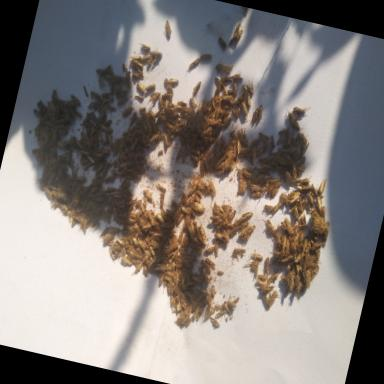pbw: (318, 220, 332, 246), (272, 152, 293, 168), (100, 243, 118, 261), (219, 300, 236, 319), (182, 203, 201, 220), (164, 238, 180, 258), (130, 258, 144, 280), (292, 103, 311, 119), (240, 224, 255, 244), (186, 220, 200, 241), (214, 62, 234, 76), (278, 220, 294, 237), (140, 190, 157, 206), (195, 178, 212, 194), (163, 210, 178, 228), (161, 20, 175, 39), (72, 184, 84, 206), (216, 136, 229, 156), (99, 233, 115, 249), (190, 200, 208, 214), (137, 195, 150, 214), (277, 144, 297, 156), (196, 159, 208, 179), (109, 244, 124, 260), (263, 219, 277, 236), (282, 171, 296, 188), (260, 292, 273, 310), (282, 236, 294, 255), (210, 201, 224, 217), (186, 56, 200, 72), (136, 236, 150, 252), (262, 256, 273, 276), (288, 234, 298, 256), (170, 204, 182, 222), (156, 220, 174, 232), (46, 108, 64, 120), (302, 270, 314, 288), (284, 132, 296, 150), (290, 136, 302, 154), (124, 250, 142, 262), (290, 162, 302, 180), (236, 128, 248, 146), (270, 181, 282, 199), (298, 141, 310, 159), (134, 211, 146, 229), (50, 116, 64, 131), (80, 158, 95, 172), (248, 136, 262, 151), (294, 280, 305, 299), (238, 176, 249, 195), (291, 204, 302, 223), (238, 102, 251, 118), (42, 185, 55, 201), (86, 215, 99, 231), (200, 258, 213, 274), (314, 196, 326, 213), (298, 198, 309, 216), (232, 30, 243, 48), (255, 104, 264, 126), (296, 216, 310, 230), (310, 240, 324, 254), (294, 130, 308, 144), (56, 202, 70, 216), (178, 204, 192, 218), (304, 193, 317, 208), (294, 175, 310, 187), (204, 240, 216, 256), (48, 126, 60, 142), (267, 271, 279, 287), (256, 132, 272, 144), (212, 79, 222, 98), (63, 112, 76, 126), (227, 226, 240, 240), (238, 146, 252, 159), (270, 231, 284, 244), (48, 155, 62, 168), (137, 219, 151, 232), (79, 132, 92, 146), (220, 92, 234, 105), (231, 216, 244, 230), (294, 244, 304, 262), (250, 108, 260, 126), (226, 33, 238, 48), (99, 119, 111, 134), (239, 224, 251, 239), (280, 254, 295, 266), (316, 178, 326, 196), (140, 262, 150, 280), (268, 290, 278, 308), (189, 134, 199, 152), (275, 132, 287, 147), (80, 140, 95, 152), (36, 100, 48, 115), (167, 299, 178, 315), (41, 174, 52, 190), (203, 308, 214, 324), (264, 142, 275, 158), (220, 230, 231, 246), (191, 305, 200, 324), (176, 112, 193, 122), (286, 275, 296, 292), (82, 199, 92, 216), (57, 149, 70, 162), (46, 101, 59, 114), (244, 82, 256, 96), (118, 188, 130, 202), (38, 114, 52, 126), (150, 52, 162, 66), (278, 193, 290, 207), (196, 290, 208, 304), (294, 154, 306, 168), (292, 260, 304, 274), (56, 98, 68, 112), (184, 252, 198, 264), (94, 132, 106, 146), (204, 258, 218, 270), (144, 208, 158, 220), (271, 200, 282, 215), (319, 205, 328, 223), (232, 22, 241, 40), (300, 238, 310, 254), (211, 242, 221, 258), (249, 146, 259, 162), (69, 165, 79, 181), (198, 52, 214, 62), (106, 79, 116, 95), (210, 142, 220, 158), (234, 140, 244, 156), (98, 226, 108, 242), (168, 288, 176, 308), (148, 131, 160, 144), (74, 174, 87, 186), (68, 94, 81, 106), (222, 112, 234, 125), (272, 249, 285, 261), (148, 91, 160, 104), (199, 272, 212, 284), (289, 190, 302, 202), (161, 134, 172, 148), (90, 221, 101, 235), (54, 141, 68, 152), (207, 284, 218, 298), (272, 163, 286, 174), (120, 76, 131, 90), (272, 257, 286, 268), (201, 156, 212, 170), (306, 252, 315, 269), (75, 201, 85, 216), (166, 115, 181, 125), (96, 75, 106, 90), (240, 7, 250, 22), (296, 232, 306, 247), (227, 209, 237, 224), (230, 82, 240, 97), (184, 315, 194, 330), (124, 254, 139, 264), (34, 154, 46, 166), (134, 82, 146, 94), (64, 209, 73, 225), (196, 306, 205, 322), (162, 90, 174, 102), (235, 91, 244, 107), (154, 254, 166, 266), (93, 196, 105, 208), (84, 154, 96, 166), (183, 106, 195, 118), (124, 186, 136, 198), (222, 204, 230, 222), (180, 148, 188, 166), (216, 37, 228, 49), (56, 164, 64, 182), (213, 76, 225, 88), (70, 108, 83, 119), (213, 121, 224, 134), (154, 183, 167, 194), (221, 220, 234, 231), (107, 226, 121, 236), (100, 124, 114, 134), (220, 74, 234, 84), (186, 194, 196, 208), (96, 109, 106, 123), (82, 194, 96, 204), (50, 89, 60, 103), (91, 170, 101, 184), (258, 160, 272, 170), (177, 134, 187, 148), (178, 106, 192, 116), (168, 250, 178, 264), (131, 60, 145, 70), (88, 90, 102, 100), (260, 284, 274, 294), (187, 184, 197, 198), (248, 182, 262, 192), (284, 284, 294, 298), (172, 283, 182, 297), (158, 114, 168, 128), (188, 246, 202, 256), (212, 232, 226, 242), (250, 252, 264, 262), (158, 193, 166, 210), (102, 127, 110, 144), (192, 81, 200, 98), (88, 125, 97, 140), (176, 270, 185, 285), (311, 265, 320, 280), (86, 185, 98, 196), (258, 155, 270, 166), (105, 174, 116, 186), (172, 125, 184, 136), (162, 80, 173, 92), (110, 187, 121, 199), (213, 216, 224, 228), (126, 196, 138, 207), (220, 85, 231, 97), (116, 97, 127, 109), (209, 127, 219, 140), (118, 180, 131, 190), (294, 164, 307, 174), (255, 278, 268, 288), (306, 231, 316, 244), (31, 148, 44, 158), (208, 318, 221, 328), (106, 135, 116, 148), (231, 72, 244, 82), (91, 152, 104, 162), (138, 42, 151, 52), (241, 210, 254, 220), (31, 110, 44, 120), (225, 299, 238, 309), (59, 158, 72, 168), (131, 70, 144, 80), (63, 136, 76, 146), (120, 258, 133, 268), (208, 214, 221, 224), (304, 242, 312, 258), (100, 162, 108, 178), (130, 110, 138, 126), (280, 236, 288, 252), (80, 218, 88, 234), (216, 155, 225, 169), (160, 98, 169, 112), (300, 252, 309, 266), (164, 110, 178, 119), (220, 203, 234, 212), (293, 272, 302, 286), (232, 247, 246, 256), (180, 125, 191, 136), (214, 309, 225, 320), (62, 100, 74, 110), (176, 100, 188, 110), (124, 204, 136, 214), (122, 107, 132, 119), (140, 121, 150, 133), (148, 109, 158, 121), (176, 212, 184, 227), (84, 111, 94, 123), (168, 76, 180, 86), (167, 104, 179, 114), (184, 268, 196, 278), (124, 73, 134, 85), (268, 136, 276, 151), (230, 106, 240, 118), (102, 186, 114, 196), (296, 184, 308, 194), (189, 242, 204, 250), (95, 150, 110, 158), (174, 149, 182, 164), (278, 126, 288, 138), (80, 149, 92, 159), (80, 121, 92, 131), (293, 225, 302, 238), (144, 117, 153, 130), (244, 94, 253, 107), (190, 301, 198, 315), (256, 146, 264, 160), (154, 107, 162, 121), (128, 170, 142, 178), (46, 138, 54, 152), (220, 158, 227, 174), (70, 182, 78, 196), (186, 304, 194, 318), (206, 298, 213, 314), (268, 176, 282, 184), (144, 129, 152, 143), (240, 84, 251, 94), (182, 248, 193, 258), (188, 153, 199, 163), (49, 200, 59, 211), (70, 140, 80, 151), (155, 264, 166, 274), (117, 90, 127, 101), (190, 276, 201, 286), (140, 52, 150, 63), (155, 213, 165, 224), (290, 195, 300, 206), (188, 98, 198, 109), (154, 128, 163, 140), (285, 260, 294, 272), (112, 77, 124, 86), (96, 162, 105, 174), (200, 296, 209, 308), (102, 73, 114, 82), (302, 183, 314, 192), (93, 100, 102, 112), (242, 166, 254, 175), (130, 227, 142, 236), (174, 300, 183, 312), (117, 142, 124, 157), (260, 142, 268, 155), (69, 216, 77, 229), (314, 248, 322, 261), (62, 191, 70, 204), (267, 182, 275, 195), (182, 262, 195, 270), (156, 95, 164, 108), (214, 302, 224, 312), (90, 116, 100, 126), (94, 188, 104, 198), (112, 240, 122, 250), (208, 118, 218, 128), (192, 192, 202, 202), (103, 96, 113, 106), (118, 210, 128, 220), (194, 190, 204, 200), (64, 180, 74, 190), (138, 130, 148, 140), (240, 220, 250, 230), (120, 136, 131, 145), (145, 83, 156, 92), (213, 107, 224, 116), (115, 83, 122, 97), (88, 201, 95, 215), (165, 122, 177, 130), (110, 208, 118, 220), (196, 100, 204, 112), (129, 140, 137, 152), (262, 181, 270, 193), (148, 240, 160, 248), (98, 216, 110, 224), (130, 54, 142, 62), (296, 195, 304, 207), (250, 191, 262, 199), (146, 54, 154, 66), (96, 102, 104, 114), (184, 280, 196, 288), (257, 274, 269, 282), (258, 167, 270, 175), (162, 127, 174, 135), (148, 50, 160, 58), (116, 202, 126, 211), (311, 188, 320, 198), (92, 207, 102, 216), (136, 158, 146, 167), (184, 136, 194, 145), (178, 298, 187, 308), (193, 144, 202, 154), (100, 105, 110, 114), (87, 100, 96, 110), (120, 63, 128, 74), (125, 210, 136, 218), (66, 195, 74, 206), (142, 108, 150, 119), (122, 144, 130, 155), (309, 233, 320, 241), (120, 154, 131, 162), (209, 98, 217, 109), (164, 283, 172, 294), (95, 68, 106, 76), (63, 124, 70, 136), (118, 228, 125, 240), (172, 270, 178, 284), (124, 224, 130, 238), (132, 124, 141, 133), (263, 204, 272, 213), (178, 119, 188, 127), (232, 296, 240, 306), (134, 146, 144, 154), (159, 210, 167, 220), (176, 311, 184, 321), (134, 200, 142, 210), (114, 219, 124, 227), (262, 174, 272, 182), (177, 261, 185, 271), (126, 216, 136, 224), (148, 256, 156, 266), (148, 246, 156, 256), (76, 214, 84, 224), (156, 261, 166, 269), (166, 264, 176, 272), (163, 274, 173, 282), (180, 316, 188, 326), (207, 137, 214, 148), (112, 194, 123, 201), (161, 256, 169, 265), (179, 291, 188, 299), (124, 174, 136, 180), (302, 261, 308, 273), (174, 292, 180, 304), (128, 150, 137, 158), (310, 260, 316, 272), (162, 278, 168, 290), (203, 127, 211, 136), (135, 94, 145, 101), (126, 158, 133, 168), (129, 131, 139, 138), (54, 194, 64, 201), (209, 112, 219, 119), (140, 230, 150, 237), (154, 248, 164, 255), (181, 272, 186, 286), (115, 237, 125, 244), (133, 137, 143, 144), (158, 275, 164, 286), (288, 206, 296, 214), (232, 252, 240, 260), (222, 104, 230, 112), (184, 274, 192, 282), (116, 173, 124, 181), (184, 292, 192, 300), (126, 134, 134, 142), (165, 209, 172, 218), (164, 270, 174, 276), (132, 158, 138, 168), (216, 222, 222, 232), (122, 218, 128, 228), (68, 204, 78, 210), (152, 122, 158, 132), (106, 106, 116, 112), (112, 170, 122, 176), (136, 142, 146, 148), (121, 160, 128, 168), (140, 141, 148, 148), (158, 243, 166, 250), (181, 282, 188, 290), (145, 251, 150, 262), (122, 168, 131, 174), (116, 158, 122, 166), (180, 310, 188, 316), (185, 299, 191, 307), (132, 166, 140, 172), (206, 108, 212, 116), (101, 92, 109, 98), (138, 168, 146, 174), (136, 153, 144, 159), (166, 280, 174, 286), (204, 118, 212, 124), (116, 165, 124, 171), (217, 270, 224, 276), (193, 293, 198, 301), (175, 265, 181, 271), (177, 256, 183, 262), (182, 306, 188, 312), (140, 106, 146, 112), (190, 297, 194, 305), (192, 289, 198, 294), (178, 298, 185, 302), (150, 252, 154, 256)
